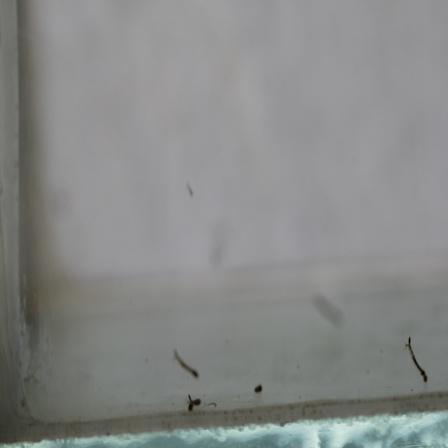Jentik-Nyamuk: (403, 332, 430, 387), (168, 345, 202, 381), (182, 390, 204, 414)
